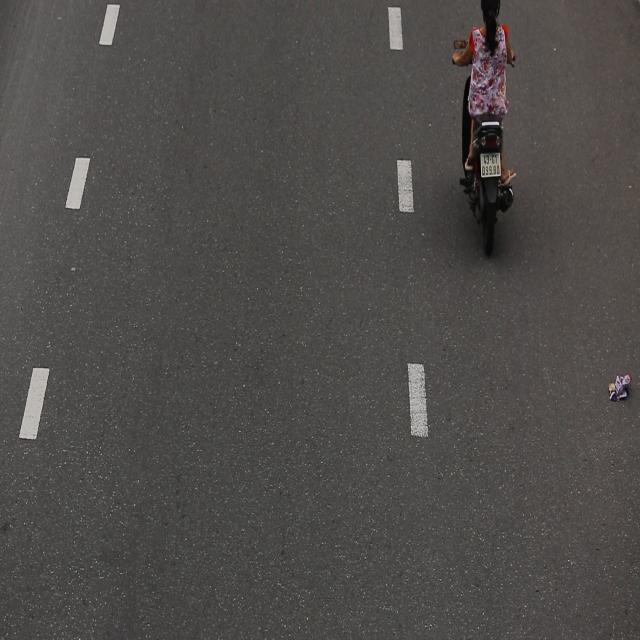motorbike: (443, 0, 522, 255)
